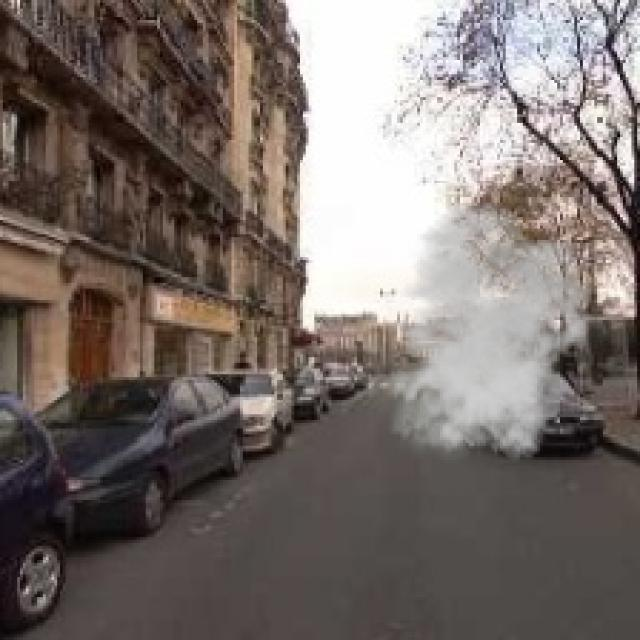Smoke: (374, 200, 597, 469)
